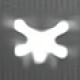plane: (7, 16, 79, 68)
